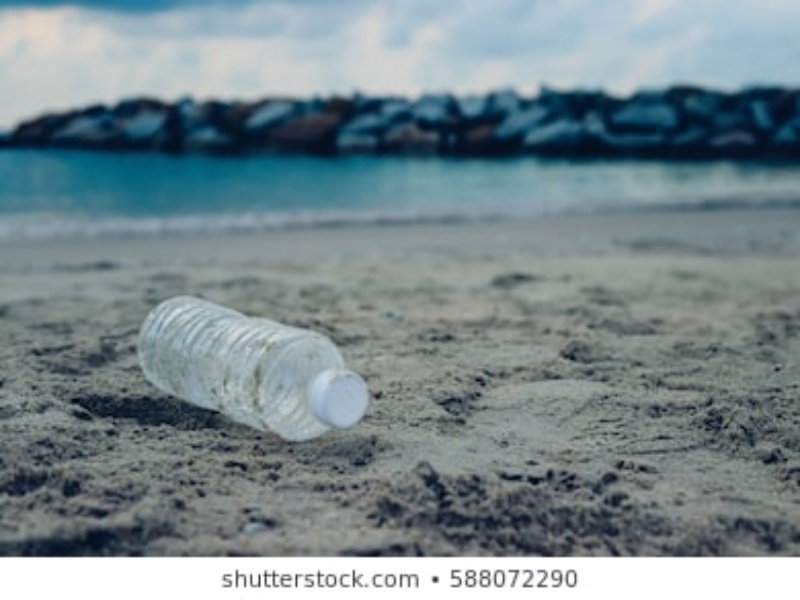bottle-cap: (311, 367, 369, 433)
plastic-bottle: (137, 295, 370, 443)
